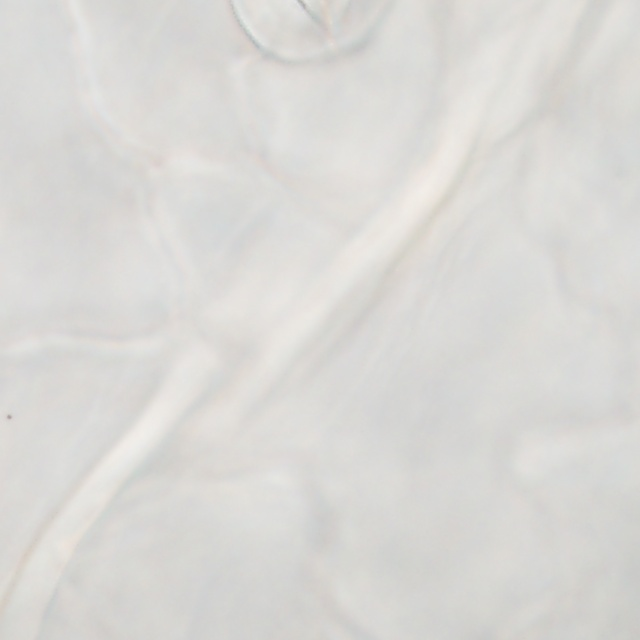center: (274, 27, 346, 36)
stomata-huw1: (231, 1, 389, 62)
